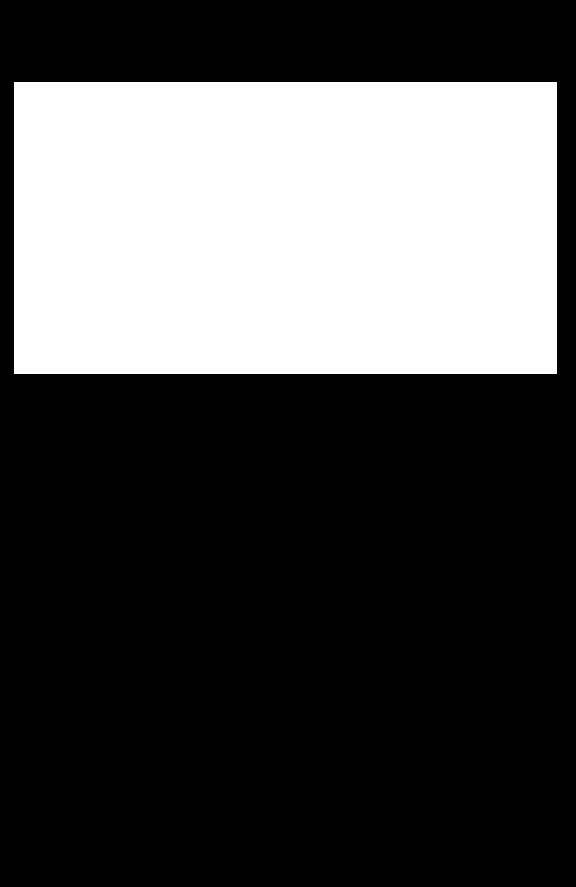table: (14, 82, 556, 373)
